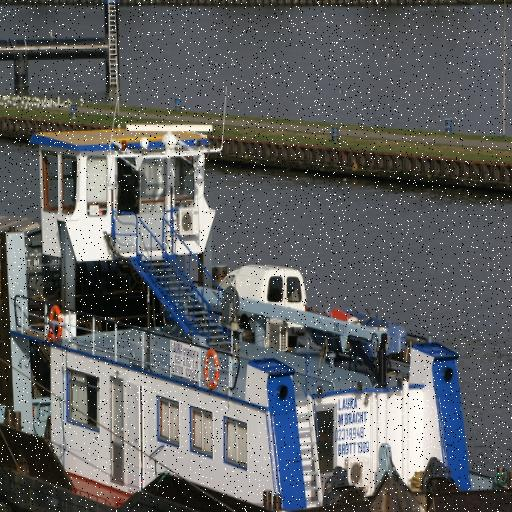tugboat: (1, 76, 512, 512)
